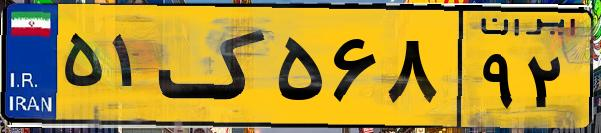1: (110, 28, 158, 98)
2: (525, 38, 570, 115)
5: (270, 28, 330, 110), (57, 26, 110, 100)
6: (330, 28, 385, 110)
8: (385, 28, 445, 110)
9: (475, 38, 525, 113)
ک: (158, 12, 270, 120)
